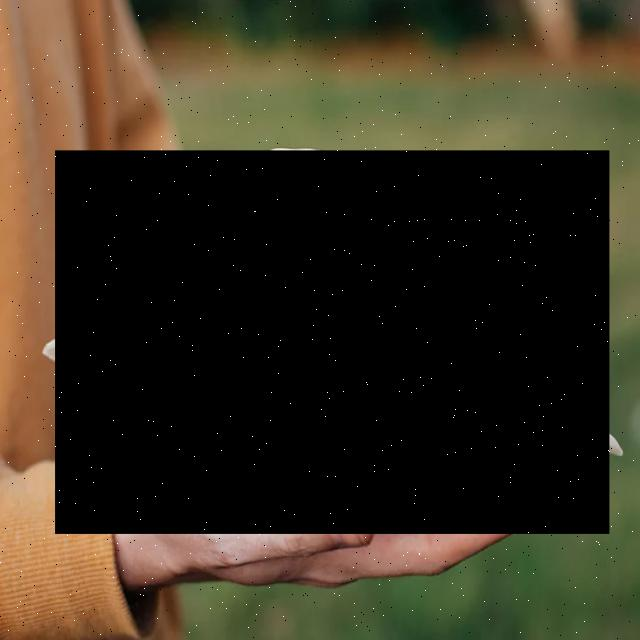Mushroom: (56, 151, 610, 534)
